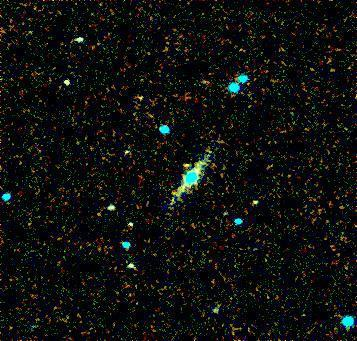star: (170, 146, 200, 176)
